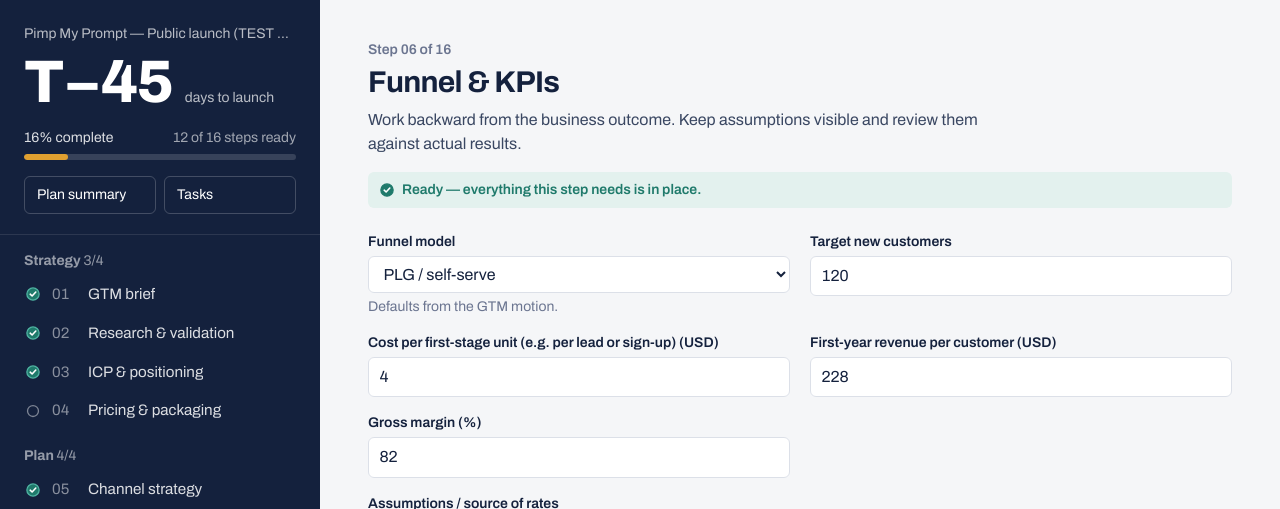
it: editor › recalculates the funnel as inputs change
This screenshot has width=1280, height=509.
Step 1. Clear the number field labelled "Target new customers" → x=1021, y=276, box 810,256 -> 1232,296
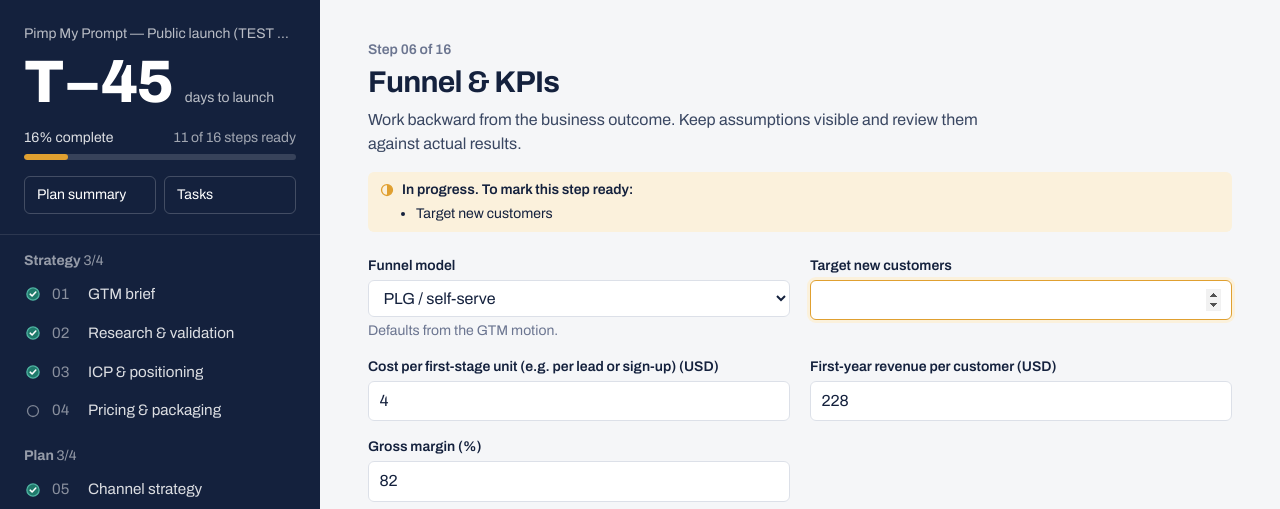
Step 2. Type "60" into the number field labelled "Target new customers" → x=1021, y=300, box 810,280 -> 1232,320
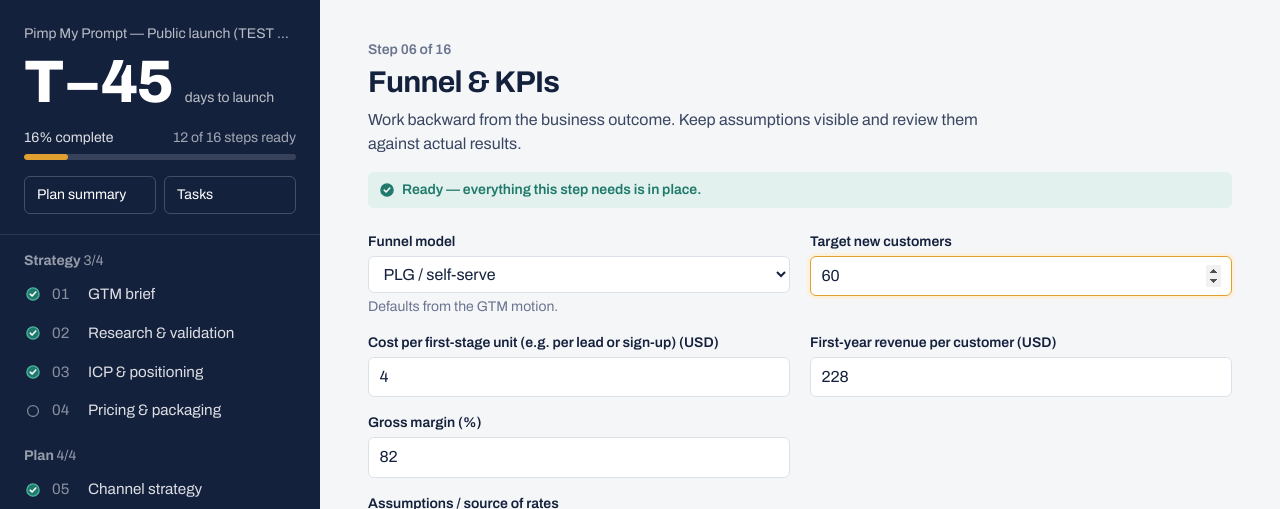
Step 3. Clear the number field labelled "Target new customers" → x=1021, y=276, box 810,256 -> 1232,296
(page scrolled)
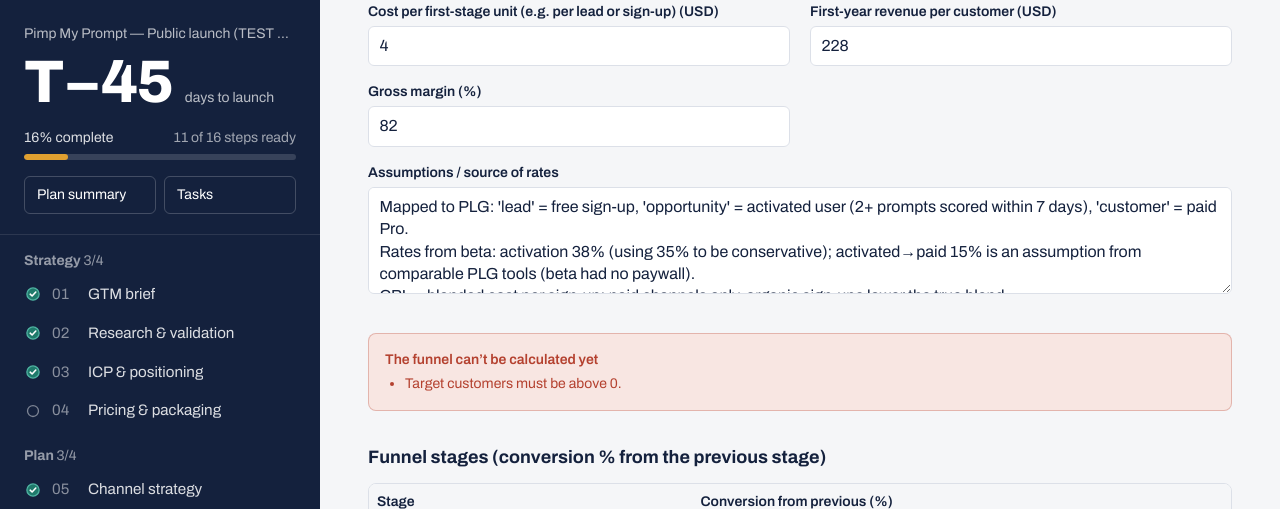
expect the text "The funnel can’t be calculated yet" is shown: met, box 385,352 -> 598,367
